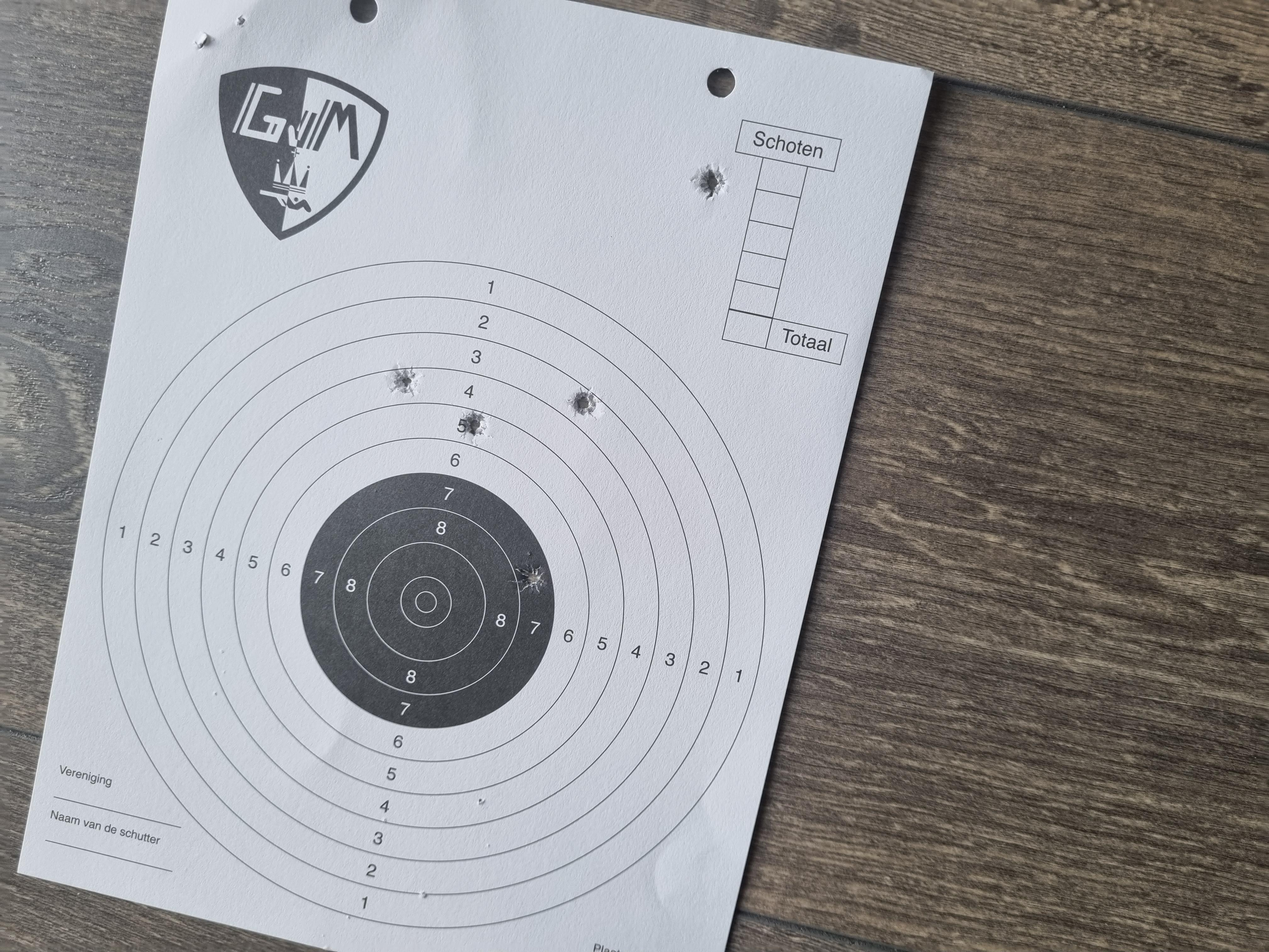hole: (1002, 519, 1051, 543), (710, 426, 752, 452), (478, 382, 516, 408), (675, 345, 722, 366), (740, 292, 781, 313)
